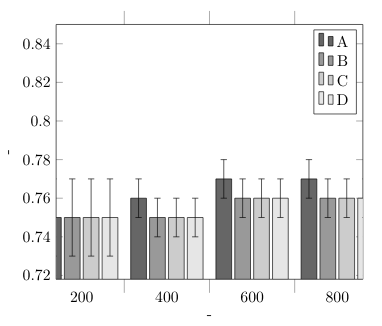S1_AxisNotZero: (6, 4, 379, 313)
